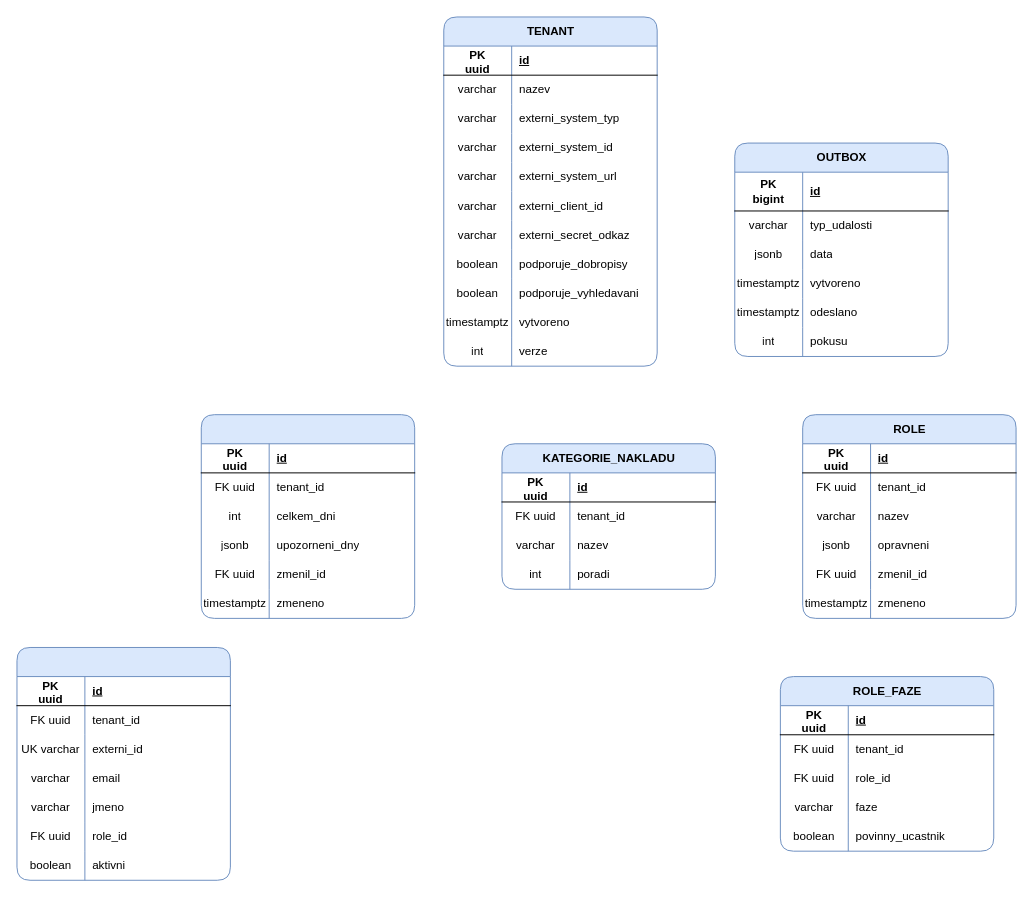
Image size: 1033x897. Some labels were removed from this diagram. Here are the shapes that lost their labels. From the top down, the box of each, then its label:
(200, 414, 415, 618): LHUTA_KONFIG
(16, 647, 230, 880): UZIVATEL
